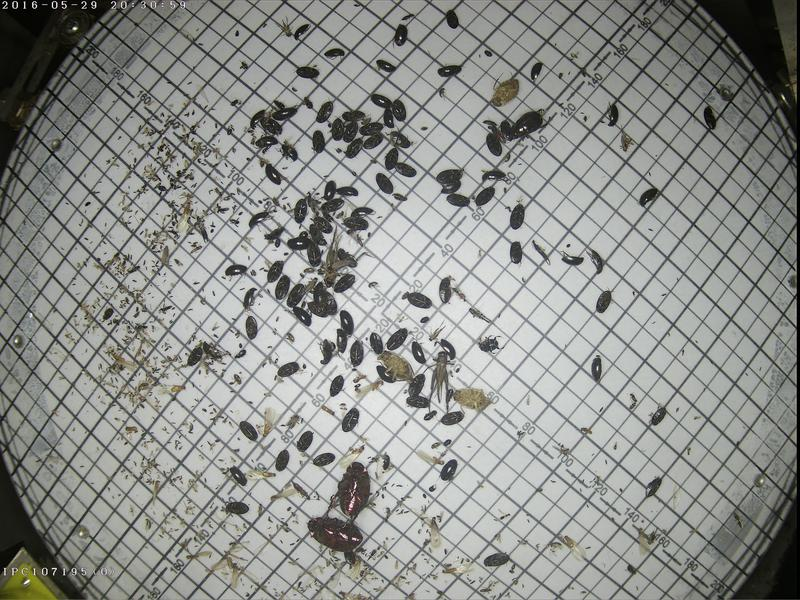holotrichia oblita: (510, 105, 550, 139)
